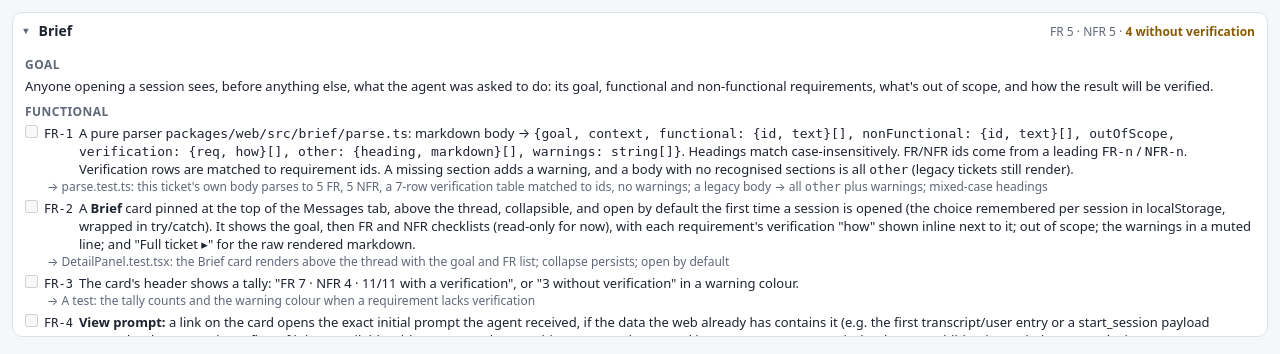
Test case: BriefCard (UX-2) › a throwing localStorage still renders open and toggles
This screenshot has width=1280, height=354.
What coordinates should you click on to do the following:
click the button "▸ Brief FR 5 · NFR 5 · 4 without verification"
I would click on:
 (55, 30)
Its box is [13, 13, 1267, 48].
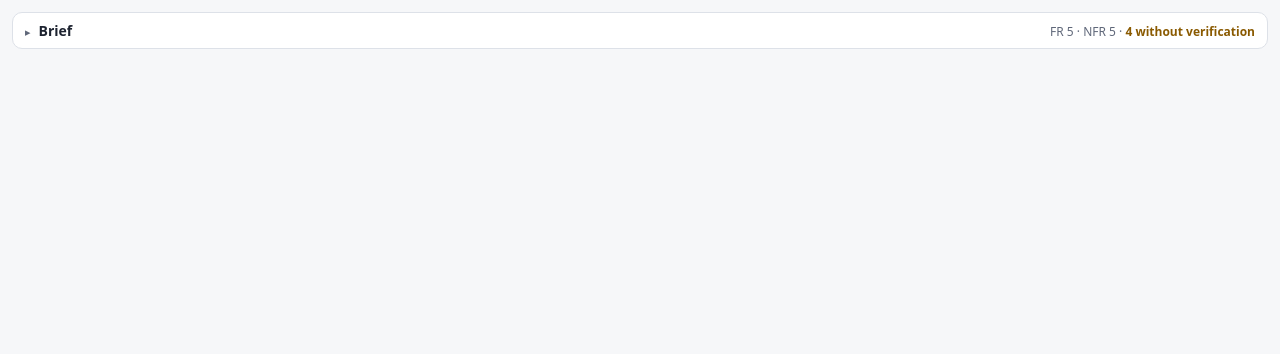
Now the button "▸ Brief FR 5 · NFR 5 · 4 without verification" is collapsed, box [13, 13, 1267, 48]
